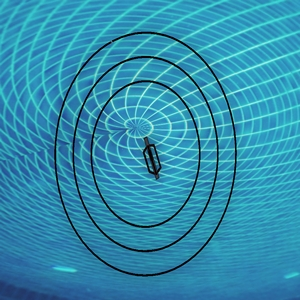circle: (57, 23, 244, 296), (67, 9, 239, 291)
